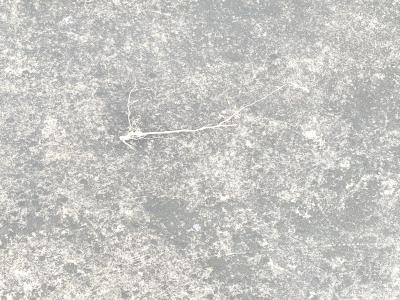Root: (119, 85, 286, 149)
